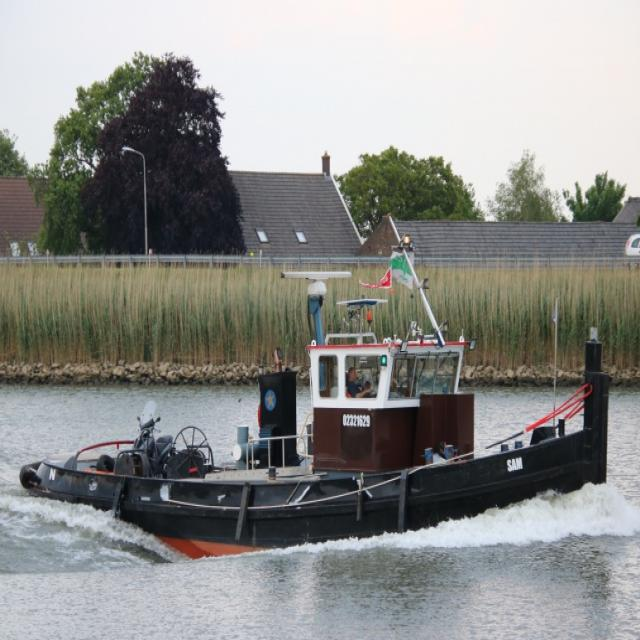tugboat: (17, 264, 618, 574)
